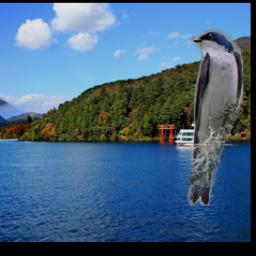Swallow: (185, 28, 243, 206)
